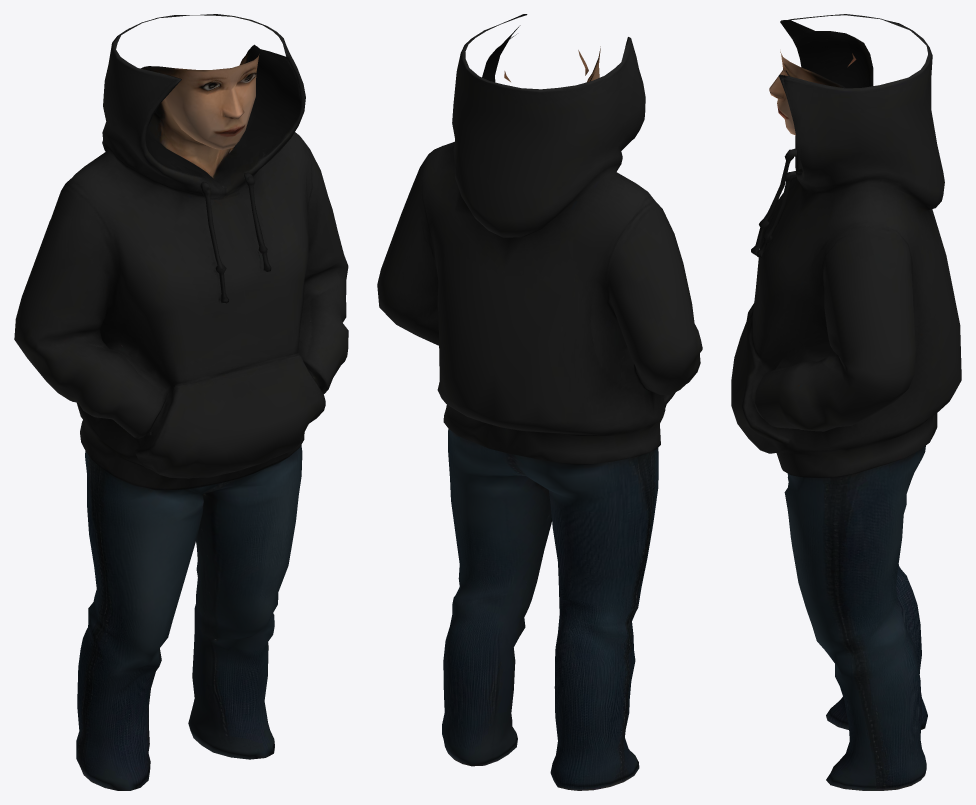
The model's file is 019dfc0a-8f85-75fa-a146-17b0672ee2dd.glb.
3 views of the same model, side by side, from view 1: azimuth 30°, elevation 25°; view 2: azimuth 150°, elevation 25°; view 3: azimuth 270°, elevation 25° (orthographic). The views are drawn at different scales.
Parts seen in each view (by area): view 1: tripo_node_e5002bc3-92f0-4a80-9199-824e48f44c3e; view 2: tripo_node_e5002bc3-92f0-4a80-9199-824e48f44c3e; view 3: tripo_node_e5002bc3-92f0-4a80-9199-824e48f44c3e.
Boxes of the visible parts, x1,y1,x2,y2 form: tripo_node_e5002bc3-92f0-4a80-9199-824e48f44c3e: (14, 14, 348, 790); tripo_node_e5002bc3-92f0-4a80-9199-824e48f44c3e: (377, 14, 702, 790); tripo_node_e5002bc3-92f0-4a80-9199-824e48f44c3e: (731, 14, 961, 790).
Size of the model in its own units: 0.4668 by 0.998 by 0.2949.
Materials: 1 (1 with a texture image).
